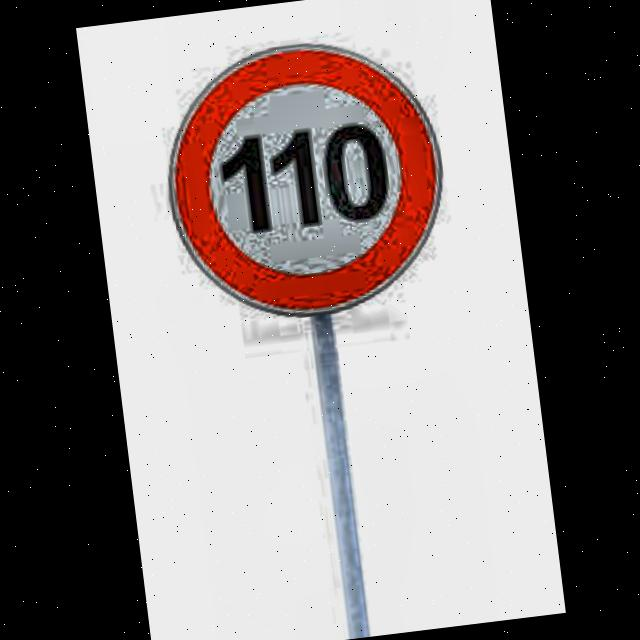speed_110: (153, 32, 455, 328)
